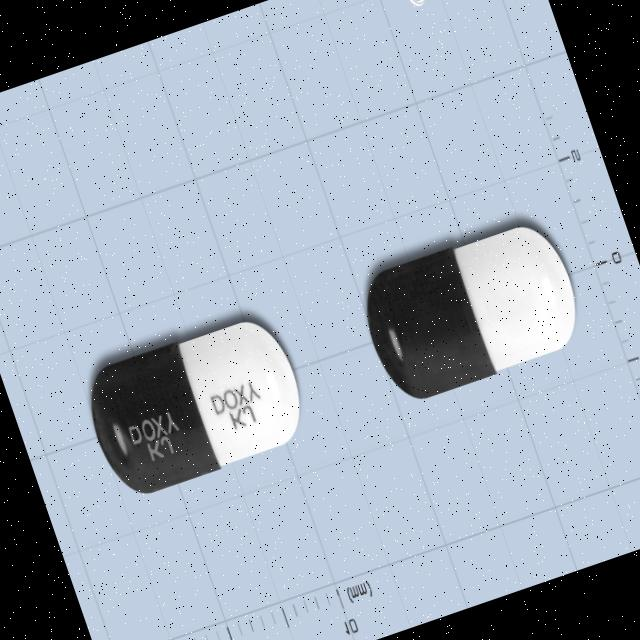Doxycycline Hyclate Cap: (350, 212, 593, 410), (76, 306, 316, 503)
